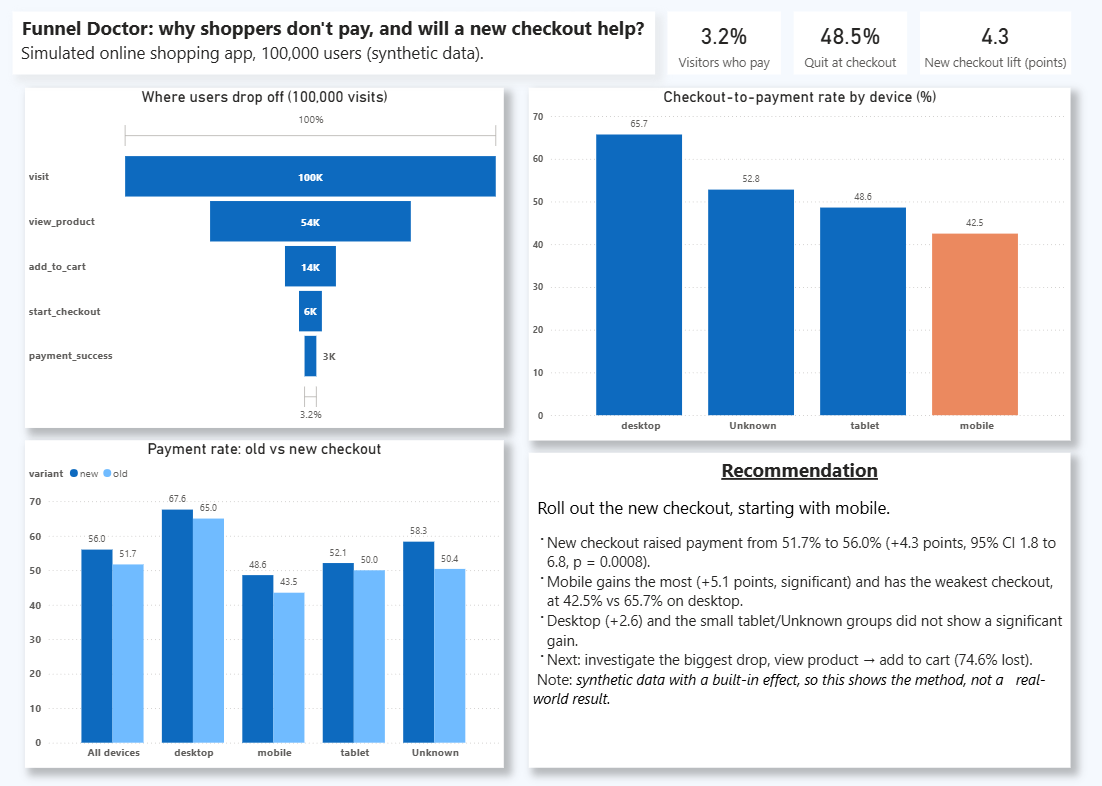

The page's visual inventory and layout, read from the dashboard file:
{"tool":"powerbi","page":{"name":"Page 1","canvas":[1400,1000],"ordinal":0},"visuals":[{"type":"funnel","title":"Where users drop off (100,000 visits)","fields":{"Category":["dashboard_funnel.step"],"Y":["Sum(dashboard_funnel.users)"]},"box":[32,112,608,432],"z":0},{"type":"clusteredColumnChart","title":"Checkout-to-payment rate by device (%)","fields":{"Y":["Sum(dashboard_device.checkout_to_pay_pct)"],"Category":["dashboard_device.device"]},"box":[672,112,688,448],"z":1000},{"type":"clusteredColumnChart","title":"Payment rate: old vs new checkout","fields":{"Category":["dashboard_abtest.device"],"Series":["dashboard_abtest.variant"],"Y":["Sum(dashboard_abtest.pay_rate_pct)"]},"box":[32,560,608,416],"z":2000},{"type":"textbox","box":[672,576,688,400],"z":3000},{"type":"textbox","box":[16,16,816,80],"z":4000},{"type":"card","fields":{"Values":["dashboard_abtest.Visitors who pay"]},"box":[848,16,144,80],"z":4001},{"type":"card","fields":{"Values":["dashboard_abtest.Quit at checkout"]},"box":[1008,16,144,80],"z":4002},{"type":"card","fields":{"Values":["dashboard_abtest.New checkout lift (points)"]},"box":[1168,16,192,80],"z":4003}]}

Visuals, with their boxes in screenshot pixels (x1, y1, x2, y2), scaled from the page's 1400x1000 canvas onto the 1102x786 screenshot:
"Where users drop off (100,000 visits)" funnel: 25/88/504/428
"Checkout-to-payment rate by device (%)" clusteredColumnChart: 529/88/1071/440
"Payment rate: old vs new checkout" clusteredColumnChart: 25/440/504/767
textbox: 529/453/1071/767
textbox: 13/13/655/75
card - dashboard_abtest.Visitors who pay: 667/13/781/75
card - dashboard_abtest.Quit at checkout: 793/13/907/75
card - dashboard_abtest.New checkout lift (points): 919/13/1071/75
